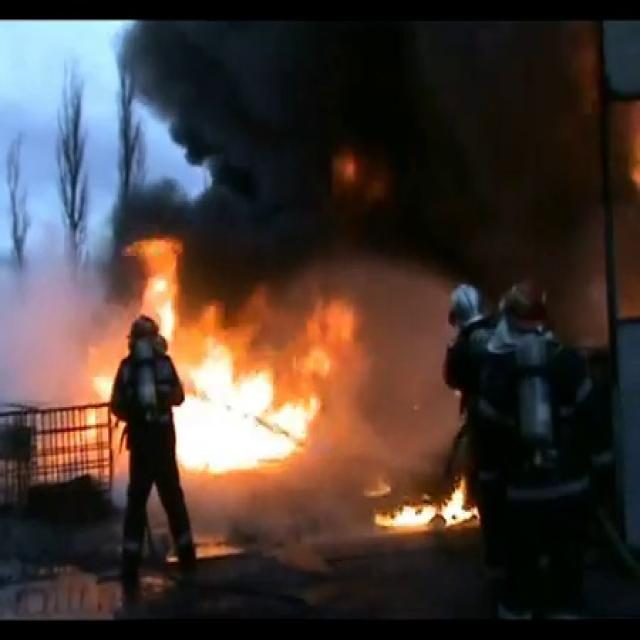Fire: (132, 253, 356, 483), (373, 475, 480, 537), (84, 366, 126, 444)
Smoke: (98, 20, 612, 272), (0, 192, 104, 438)
